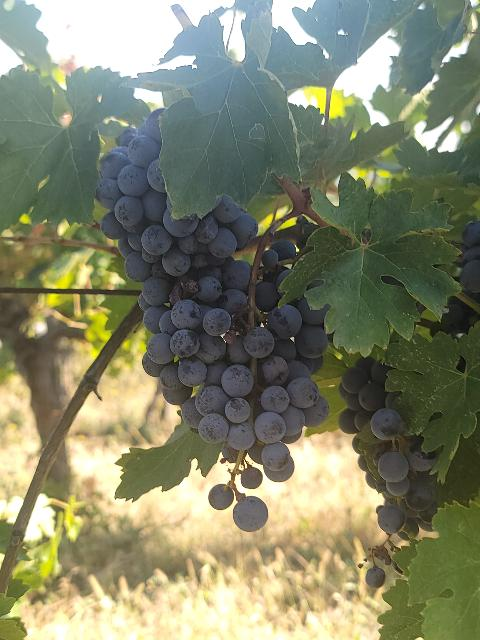grapes: (95, 109, 258, 405), (181, 300, 329, 531)
